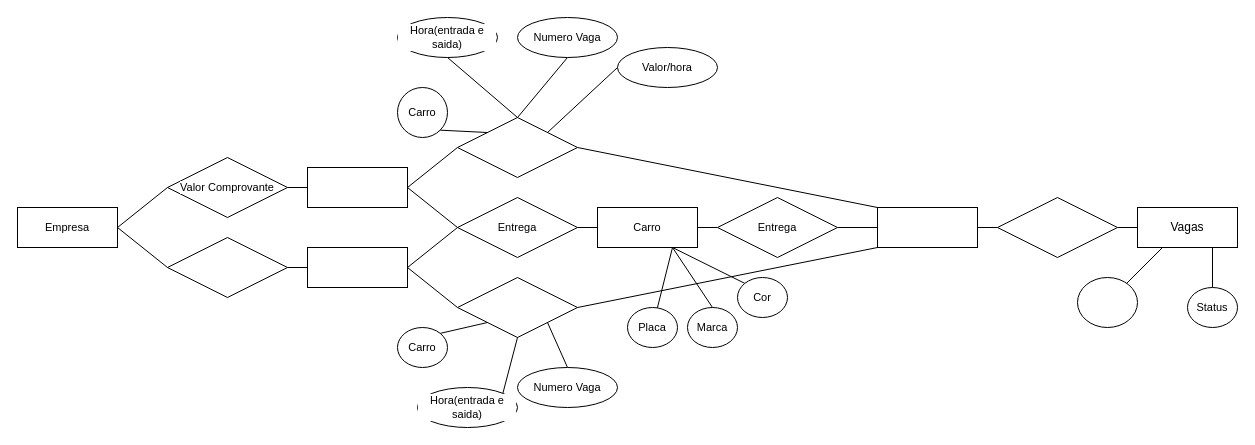
Some shapes in this 1255 by 445 pixel diagram are drawn without their labels. Each missing label, with the centre of its shape:
"Cliente" goes at (x=357, y=187).
"Cliente Vip" goes at (x=357, y=267).
"Comprovante Norm." goes at (x=517, y=147).
"Comprovante Vip" goes at (x=517, y=307).
"Manobra" goes at (x=1057, y=227).
"Manobrista" goes at (x=927, y=227).
"numero" goes at (x=1107, y=302).
"Valor Mensal" goes at (x=227, y=267).
